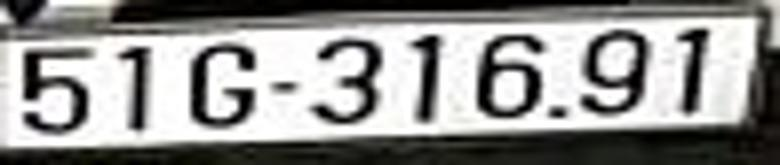-: (266, 77, 303, 98)
.: (546, 92, 573, 122)
1: (672, 21, 708, 119), (115, 42, 149, 137), (409, 32, 441, 130)
3: (309, 34, 382, 133)
5: (18, 43, 96, 138)
6: (466, 32, 540, 120)
9: (578, 30, 645, 120)
G: (184, 42, 262, 134)
